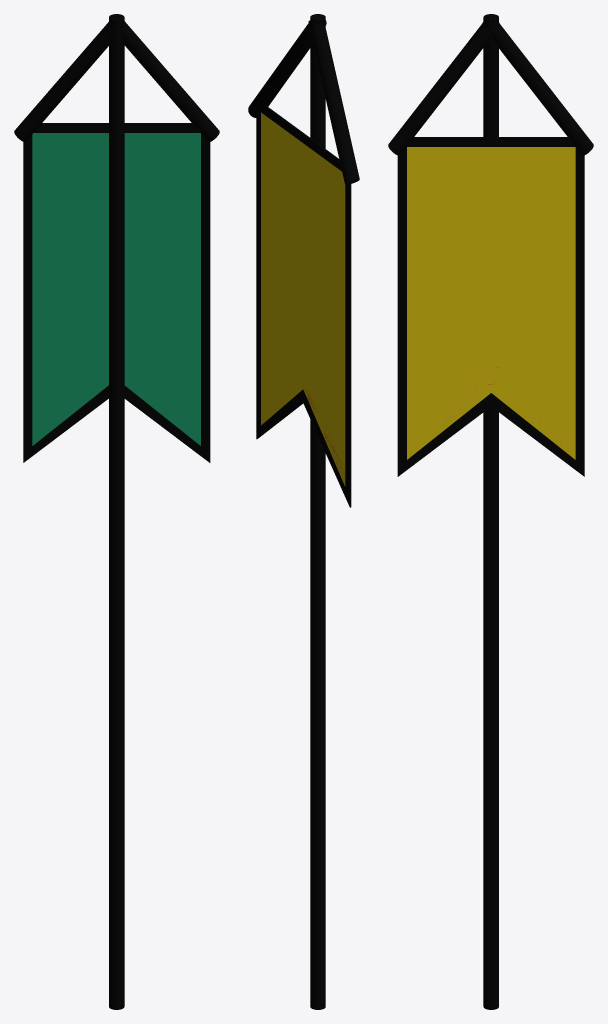
Rendered from flags.glb.
The picture shows the model from 3 angles, left to right: view 1: azimuth 90°, elevation 25°; view 2: azimuth 210°, elevation 25°; view 3: azimuth 270°, elevation 25°; orthographic projection.
Visible parts, largest first — view 1: flag_dragon, flag_zubr; view 2: flag_eagle, flag_dragon, flag_zubr, flag_bear, flag_leon, flag_fankfrid; view 3: flag_eagle, flag_zubr.
Part boxes in pixels (x1,y1,x2,y2): flag_dragon: (14,14,219,1009); flag_zubr: (14,24,219,1009); flag_eagle: (248,17,355,1009); flag_dragon: (265,14,359,1008); flag_zubr: (248,22,359,1009); flag_bear: (266,14,351,504); flag_leon: (257,14,354,1008); flag_fankfrid: (265,14,351,506); flag_eagle: (388,15,593,1009); flag_zubr: (388,25,593,1009).
Size of the model in its own units: 0.00812 by 0.2805 by 0.0528.
